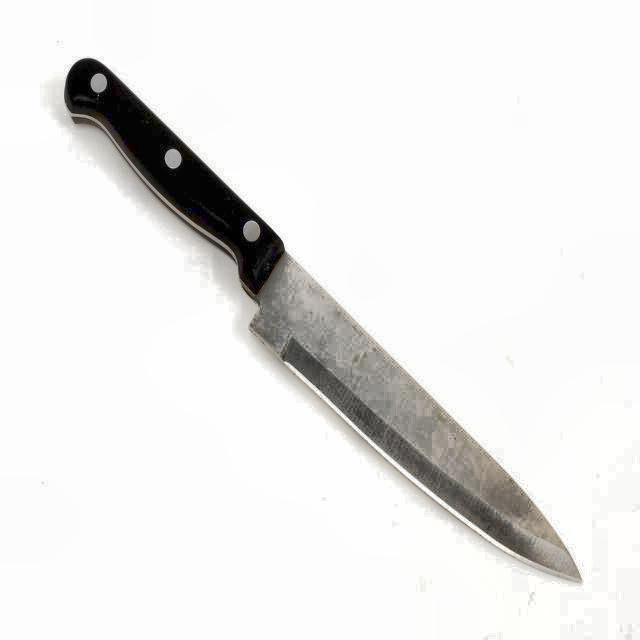knife: (65, 52, 595, 588)
